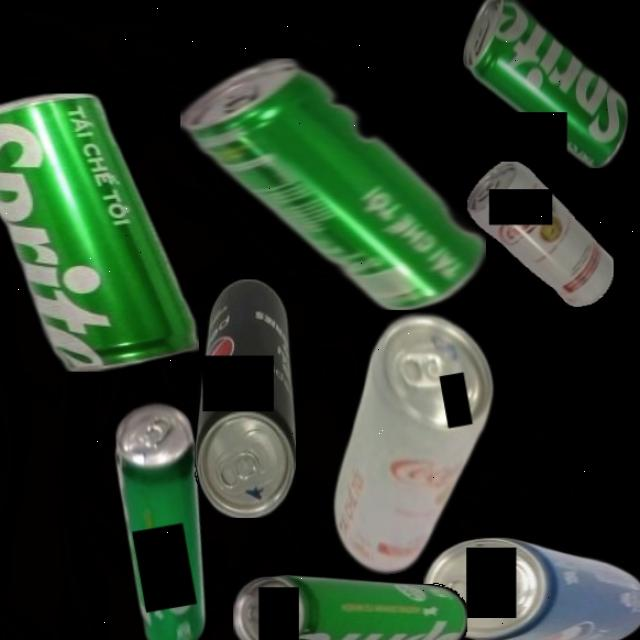debris: (179, 58, 486, 310), (301, 301, 524, 583), (0, 92, 199, 372), (100, 396, 231, 640), (462, 0, 629, 168), (193, 278, 296, 518), (423, 535, 639, 640), (466, 162, 614, 306), (233, 574, 467, 640)
